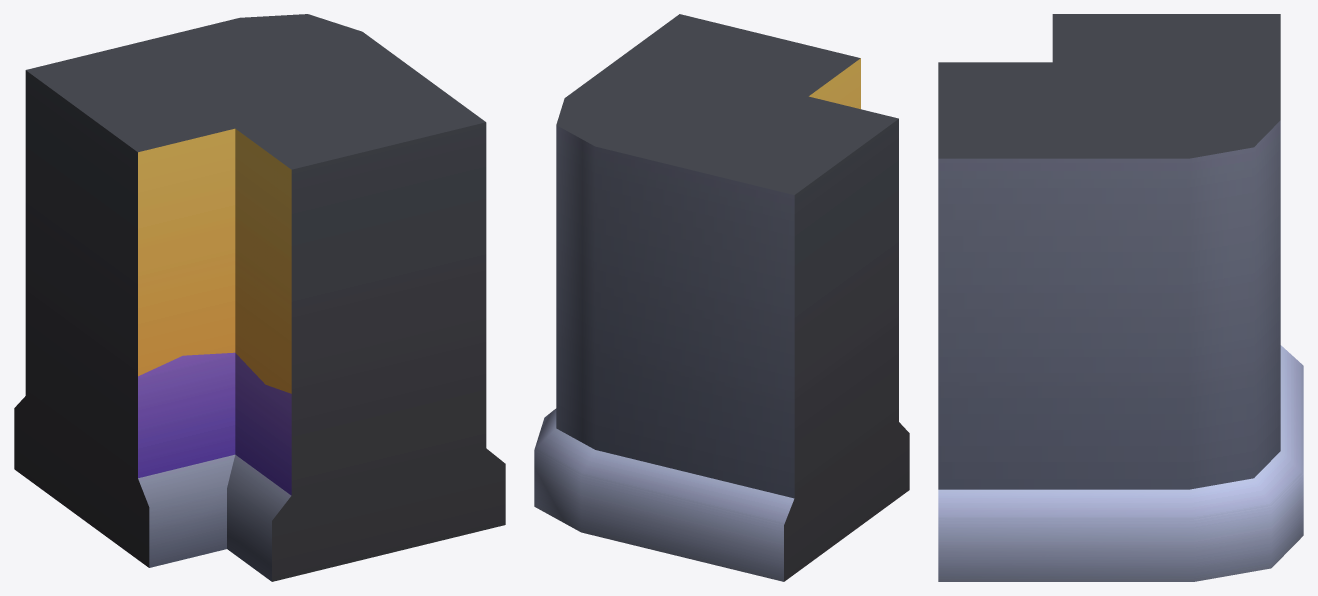
Rendered from wall-corner.glb.
The picture shows the model from 3 angles, left to right: view 1: azimuth 30°, elevation 25°; view 2: azimuth 150°, elevation 25°; view 3: azimuth 270°, elevation 25°; orthographic projection. The views are drawn at different scales.
Parts seen in each view (by area): view 1: wall-corner; view 2: wall-corner; view 3: wall-corner.
Boxes of the visible parts, box(x1,y1,x2,y2) form: wall-corner: box(14, 14, 505, 581); wall-corner: box(534, 14, 909, 581); wall-corner: box(938, 14, 1303, 581).
Bounding box in the file's own units: 0.8 × 1 × 0.8.
1 material, 1 textured.
